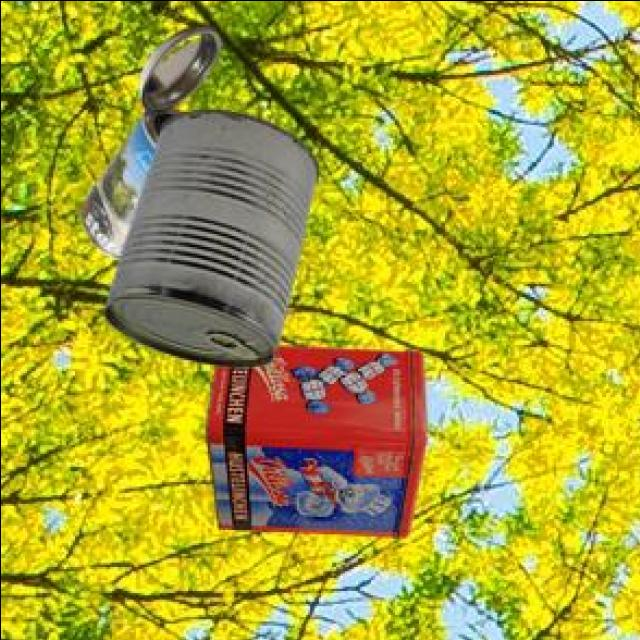logam: (106, 112, 321, 369), (210, 347, 430, 541), (84, 29, 223, 262)
